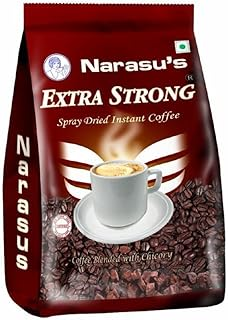Coffee: (2, 2, 228, 317)
